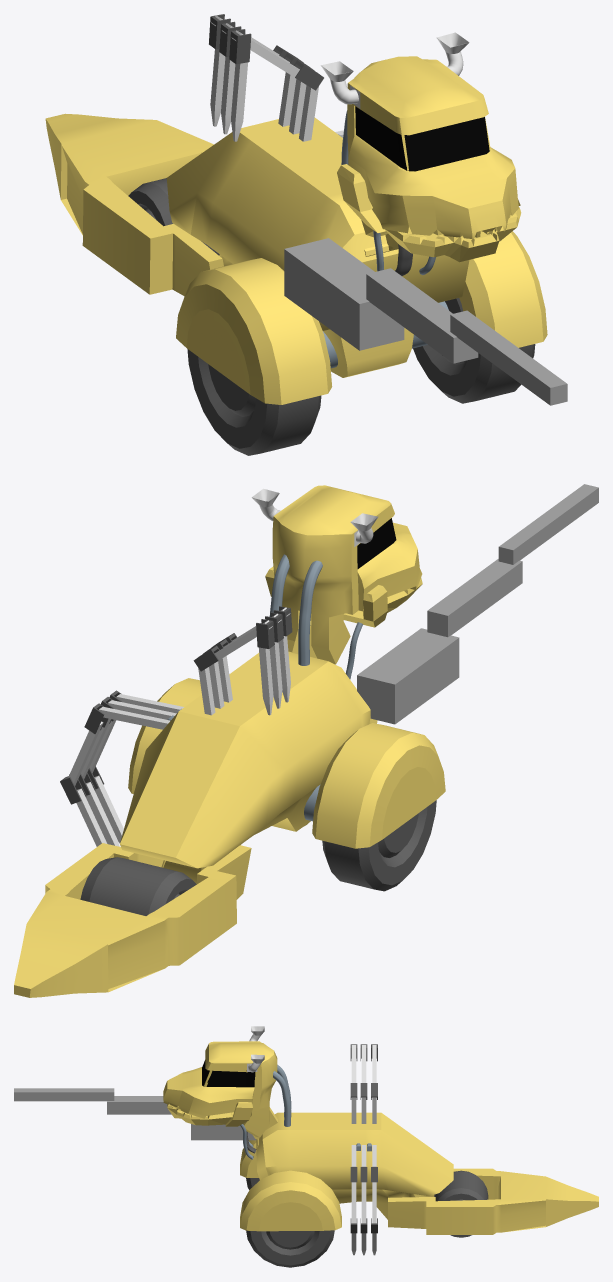
The model's file is Drillythedrillingdragon.fbx.
The picture shows the model from 3 angles, top to bottom: view 1: azimuth 30°, elevation 25°; view 2: azimuth 150°, elevation 25°; view 3: azimuth 270°, elevation 25°; orthographic projection. The views are drawn at different scales.
Parts seen in each view (by area): view 1: body, head1, pCube36, wheelwaterthingy, pCube37, pCylinder40, wheelwaterthingy1, glasswidnow, pCube38, jaw, pCube39, pCylinder38 (+11 smaller); view 2: body, pCube36, head1, wheelwaterthingy, pCube37, pCylinder40, pCylinder39, pCube38, pCube39, wheelwaterthingy1, jaw, wirelarge (+4 smaller); view 3: body, pCube36, head1, wheelwaterthingy1, pCylinder38, pCube39, pCylinder39, pCube38, jaw, pCube37, glasswidnow, wheelwaterthingy (+1 smaller).
Boxes of the visible parts, x1=… form: body: x1=166, y1=117, x2=469, y2=377; head1: x1=347, y1=56, x2=520, y2=238; pCube36: x1=45, y1=113, x2=223, y2=296; wheelwaterthingy: x1=176, y1=258, x2=332, y2=404; pCube37: x1=284, y1=238, x2=404, y2=350; pCylinder40: x1=187, y1=349, x2=321, y2=455; wheelwaterthingy1: x1=459, y1=231, x2=547, y2=347; glasswidnow: x1=355, y1=106, x2=489, y2=171; pCube38: x1=366, y1=268, x2=478, y2=363; jaw: x1=337, y1=164, x2=521, y2=262; pCube39: x1=450, y1=310, x2=567, y2=405; pCylinder38: x1=413, y1=298, x2=535, y2=403; body: x1=120, y1=651, x2=377, y2=884; pCube36: x1=14, y1=843, x2=251, y2=997; head1: x1=272, y1=485, x2=422, y2=664; wheelwaterthingy: x1=312, y1=723, x2=445, y2=848; pCube37: x1=357, y1=628, x2=459, y2=724; pCylinder40: x1=322, y1=800, x2=436, y2=891; pCylinder39: x1=80, y1=857, x2=196, y2=915; pCube38: x1=427, y1=559, x2=522, y2=637; pCube39: x1=498, y1=484, x2=598, y2=564; wheelwaterthingy1: x1=128, y1=678, x2=201, y2=793; jaw: x1=265, y1=566, x2=422, y2=627; wirelarge: x1=298, y1=560, x2=322, y2=665; body: x1=256, y1=1112, x2=453, y2=1219; pCube36: x1=388, y1=1168, x2=598, y2=1234; head1: x1=163, y1=1041, x2=277, y2=1137; wheelwaterthingy1: x1=240, y1=1170, x2=341, y2=1231; pCylinder38: x1=246, y1=1230, x2=334, y2=1267; pCube39: x1=14, y1=1088, x2=114, y2=1101; pCylinder39: x1=434, y1=1170, x2=488, y2=1237; pCube38: x1=107, y1=1096, x2=171, y2=1114; jaw: x1=167, y1=1102, x2=252, y2=1126; pCube37: x1=191, y1=1124, x2=255, y2=1140; glasswidnow: x1=202, y1=1060, x2=255, y2=1087; wheelwaterthingy: x1=240, y1=1140, x2=258, y2=1177.
Bounding box in the file's own units: 478 × 552 × 1505.
